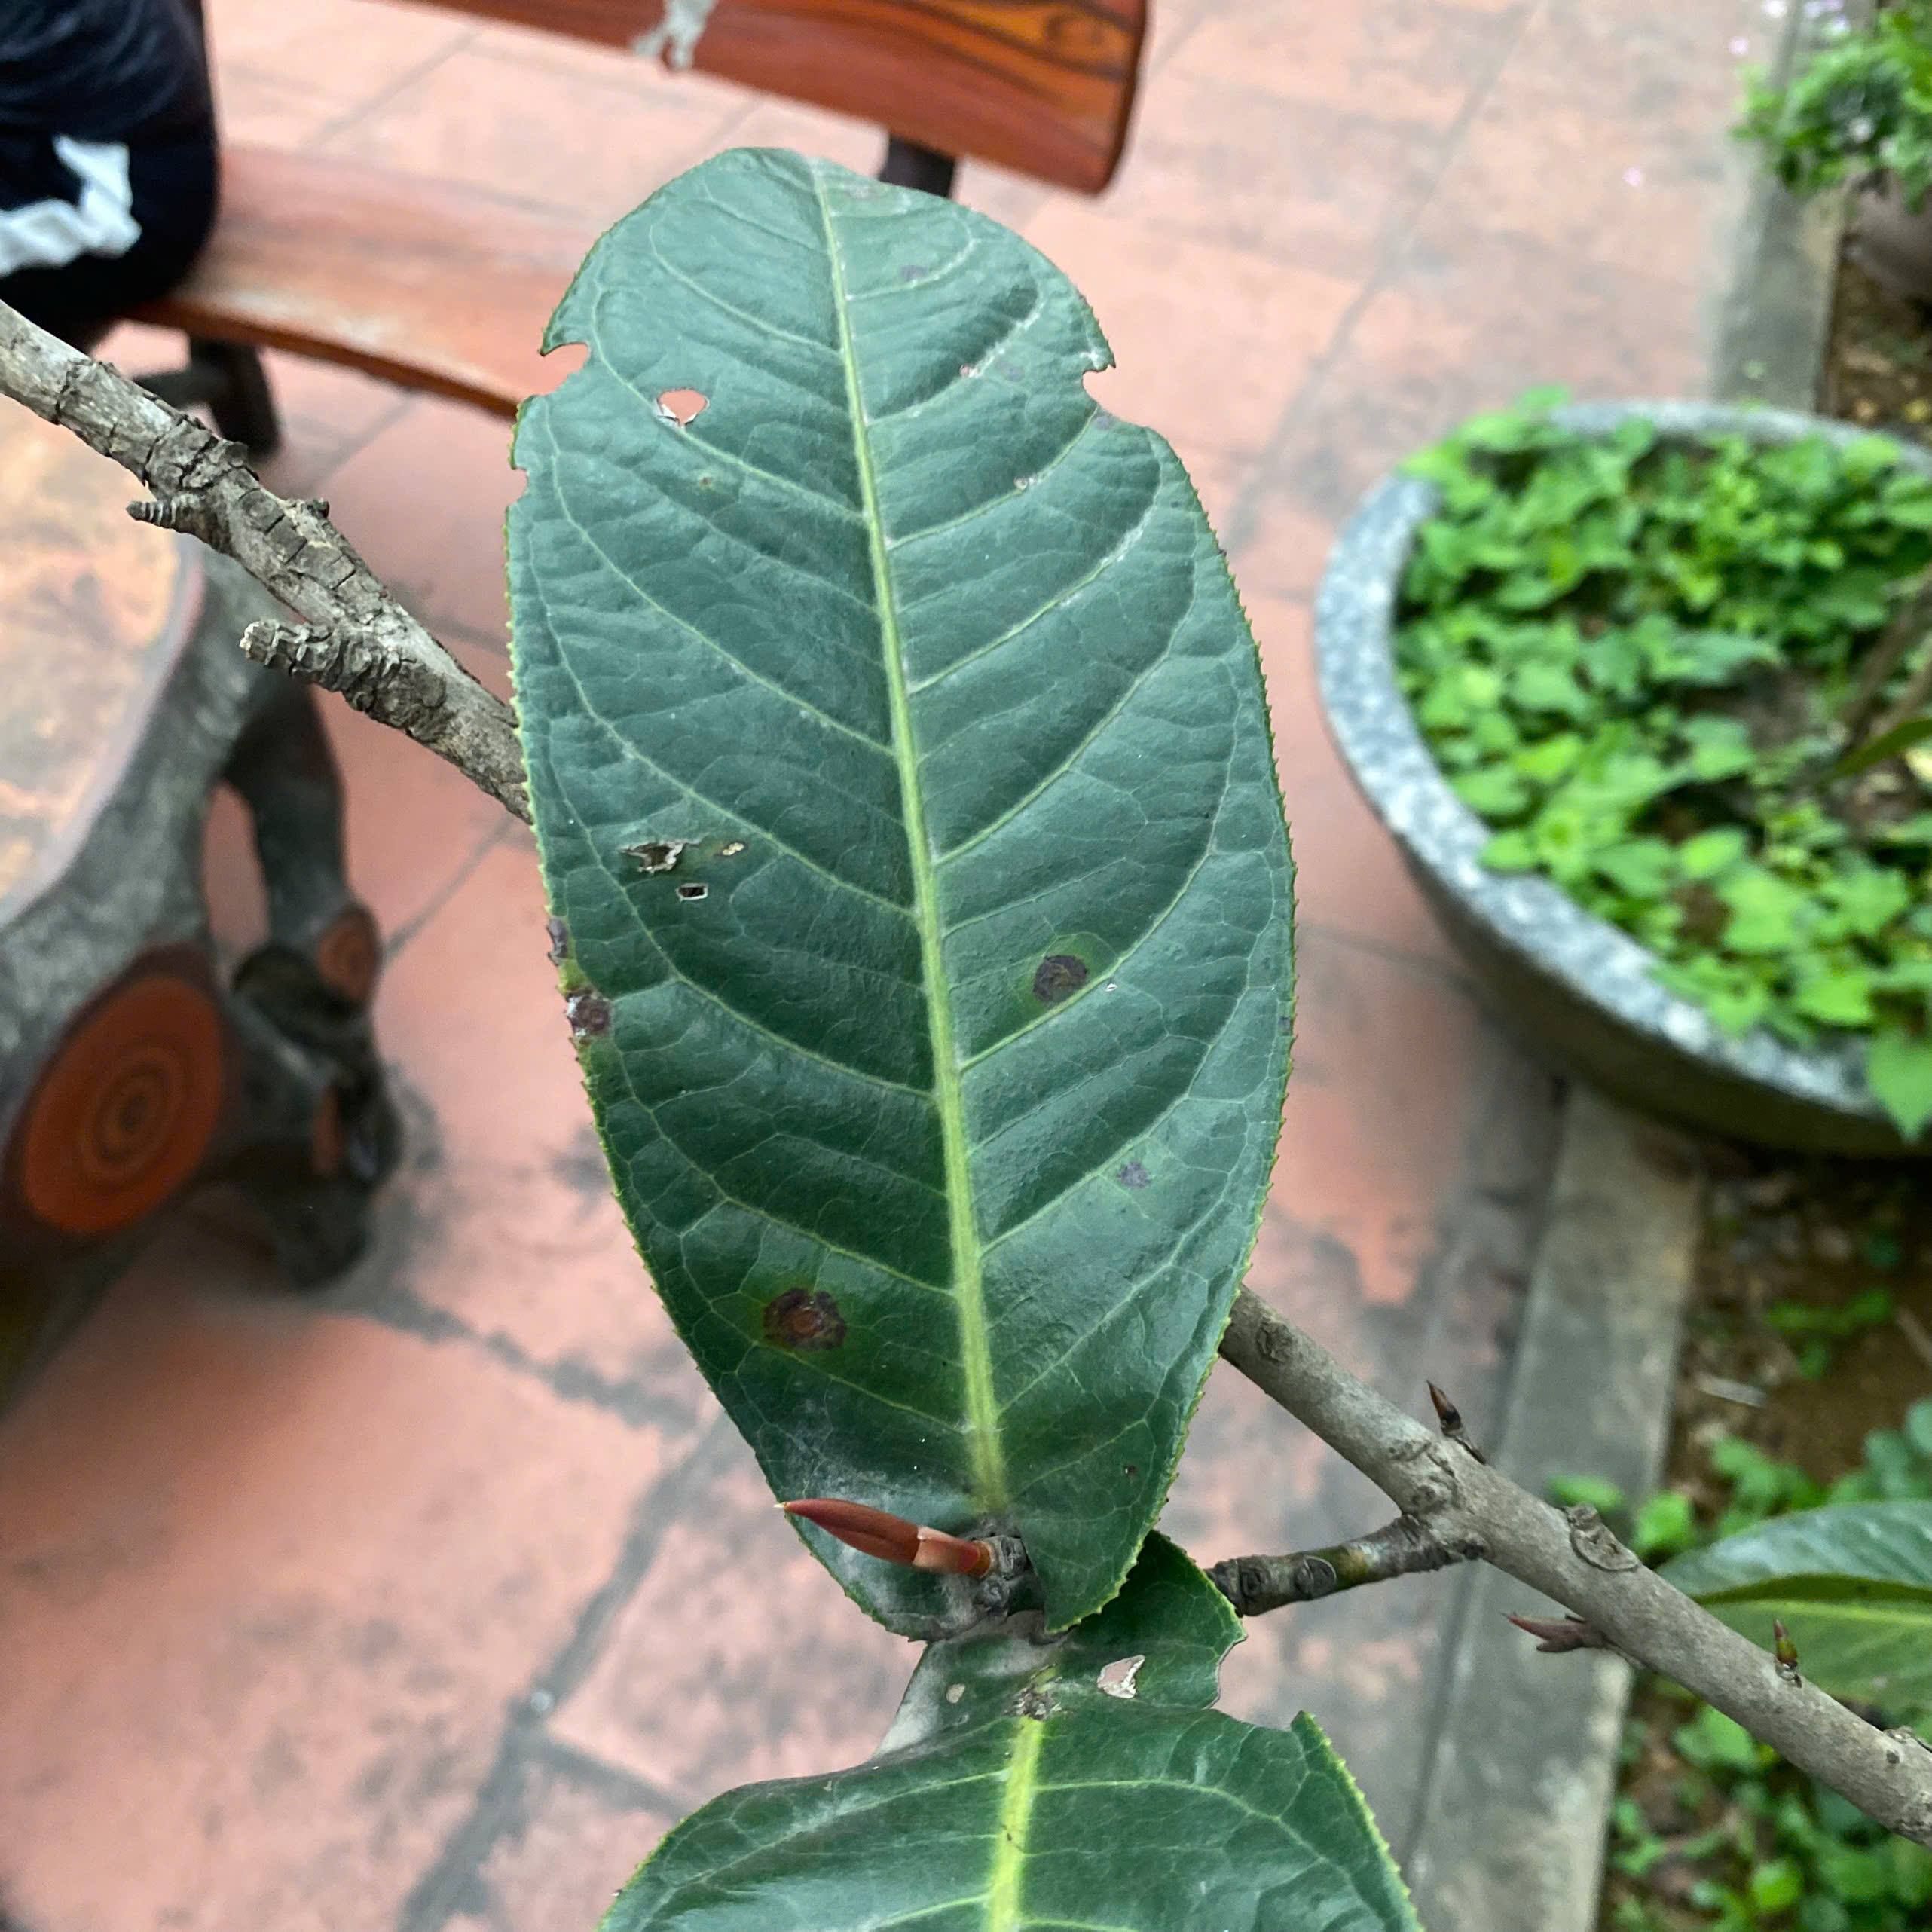hoa_hai_duong: (456, 131, 1320, 1665)
